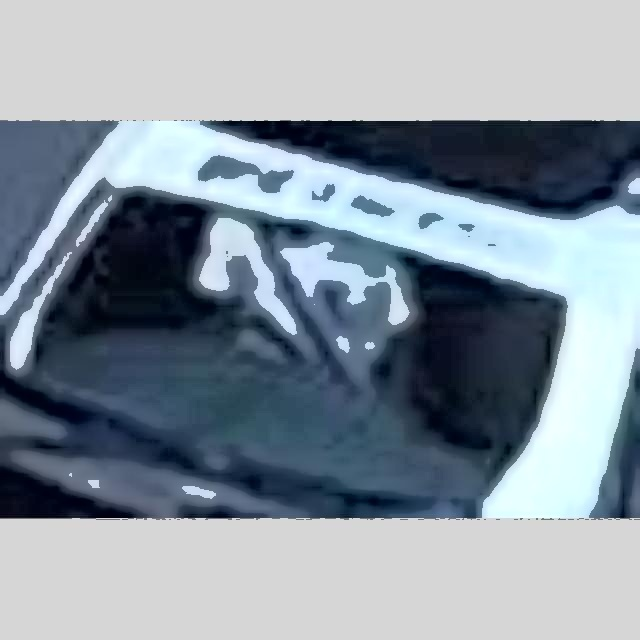pakai: (168, 175, 465, 465)
